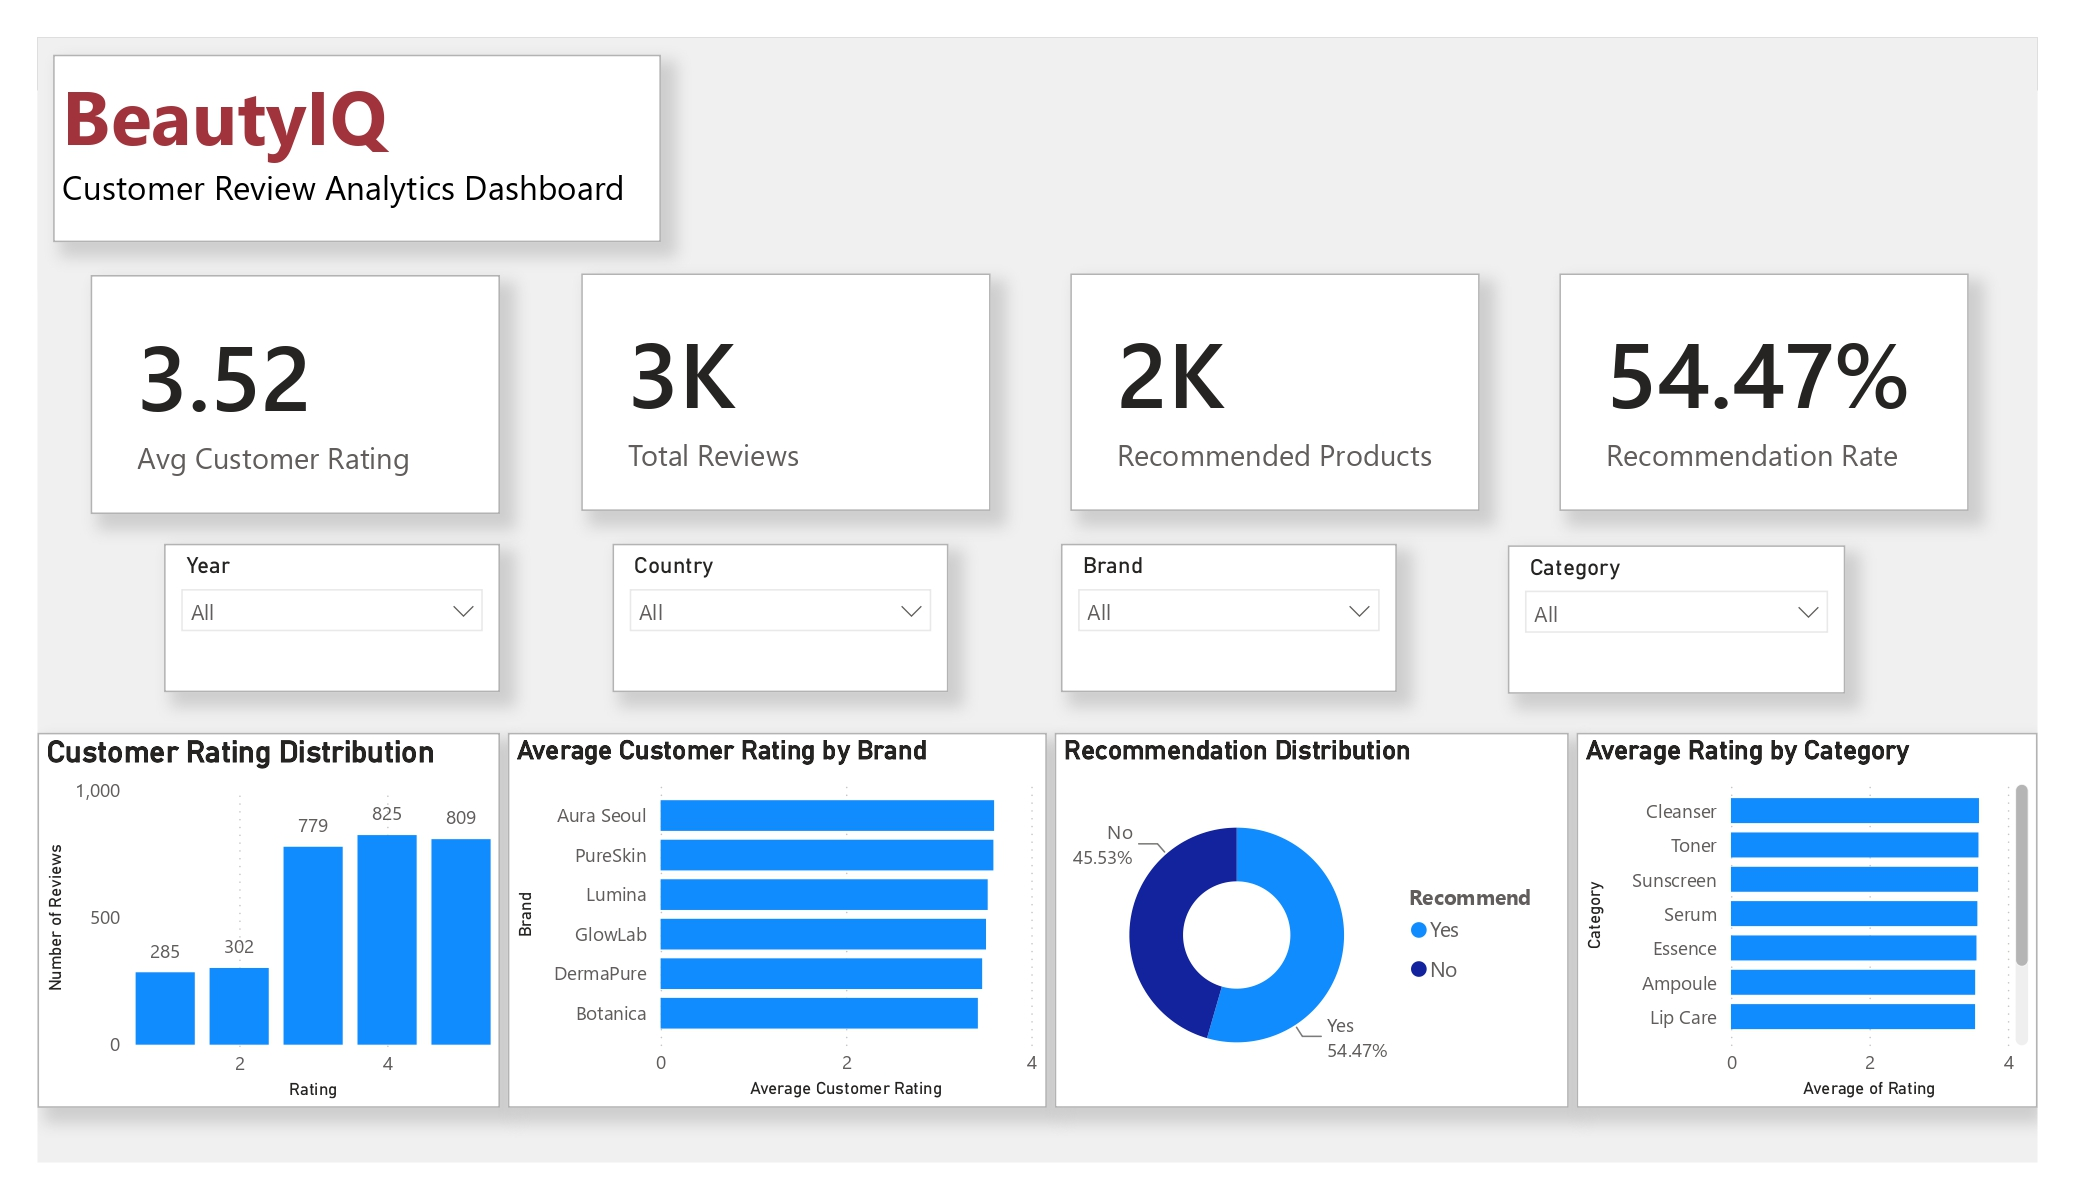

Layout of this report page (visuals, bound fields, positions):
{"tool":"powerbi","page":{"name":"Customer & Review Analytics","canvas":[1280,720],"ordinal":1},"visuals":[{"type":"textbox","box":[10,11.4,388.6,120],"z":0},{"type":"cardVisual","fields":{"Data":["FactReviews.Average Rating"]},"box":[34.3,152.3,262.1,152.3],"z":1000},{"type":"cardVisual","fields":{"Data":["DimBrand.Total Reviews"]},"box":[347.7,150.9,262,152.3],"z":2000},{"type":"cardVisual","fields":{"Data":["DimBrand.Recommended Products"]},"box":[661,150.9,262,152.3],"z":3000},{"type":"cardVisual","fields":{"Data":["DimBrand.Recommendation Rate"]},"box":[974.3,150.9,262,152.3],"z":4000},{"type":"slicer","fields":{"Values":["DimCountry.Country"]},"box":[368,323.8,215,94.7],"z":5000},{"type":"slicer","fields":{"Values":["DimBrand.Brand"]},"box":[654.7,323.8,215,94.7],"z":6000},{"type":"slicer","fields":{"Values":["DimProduct.Category"]},"box":[941.3,325.2,215.4,94.7],"z":7000},{"type":"slicer","fields":{"Values":["DimDate.Year"]},"box":[81,323.8,215.4,94.7],"z":8000},{"type":"clusteredColumnChart","title":"Customer Rating Distribution","fields":{"Category":["FactReviews.Rating"],"Y":["CountNonNull(FactReviews.ReviewID)"]},"box":[0,444.6,296.4,240.1],"z":9000},{"type":"clusteredBarChart","fields":{"Category":["DimBrand.Brand"],"Y":["FactReviews.Average Rating"]},"box":[301.3,444.6,344.4,240.1],"z":10000},{"type":"donutChart","title":"Recommendation Distribution","fields":{"Category":["FactReviews.Recommend"],"Y":["CountNonNull(FactReviews.ReviewID)"]},"box":[650.7,444.6,329.3,240.1],"z":11000},{"type":"clusteredBarChart","title":"Average Rating by Category","fields":{"Category":["DimProduct.Category"],"Y":["Avg(FactReviews.Rating)"]},"box":[985,444.6,295,240.1],"z":12000}]}

Visuals, with their boxes on the page's 1280x720 design canvas (x1, y1, x2, y2). These are canvas units, not pixel positions in the 2075x1200 screenshot, which may show the page scaled, cropped or inside an application window:
textbox: Rect(10, 11, 399, 131)
cardVisual - FactReviews.Average Rating: Rect(34, 152, 296, 305)
cardVisual - DimBrand.Total Reviews: Rect(348, 151, 610, 303)
cardVisual - DimBrand.Recommended Products: Rect(661, 151, 923, 303)
cardVisual - DimBrand.Recommendation Rate: Rect(974, 151, 1236, 303)
slicer - DimCountry.Country: Rect(368, 324, 583, 418)
slicer - DimBrand.Brand: Rect(655, 324, 870, 418)
slicer - DimProduct.Category: Rect(941, 325, 1157, 420)
slicer - DimDate.Year: Rect(81, 324, 296, 418)
"Customer Rating Distribution" clusteredColumnChart: Rect(0, 445, 296, 685)
clusteredBarChart - DimBrand.Brand x FactReviews.Average Rating: Rect(301, 445, 646, 685)
"Recommendation Distribution" donutChart: Rect(651, 445, 980, 685)
"Average Rating by Category" clusteredBarChart: Rect(985, 445, 1280, 685)
